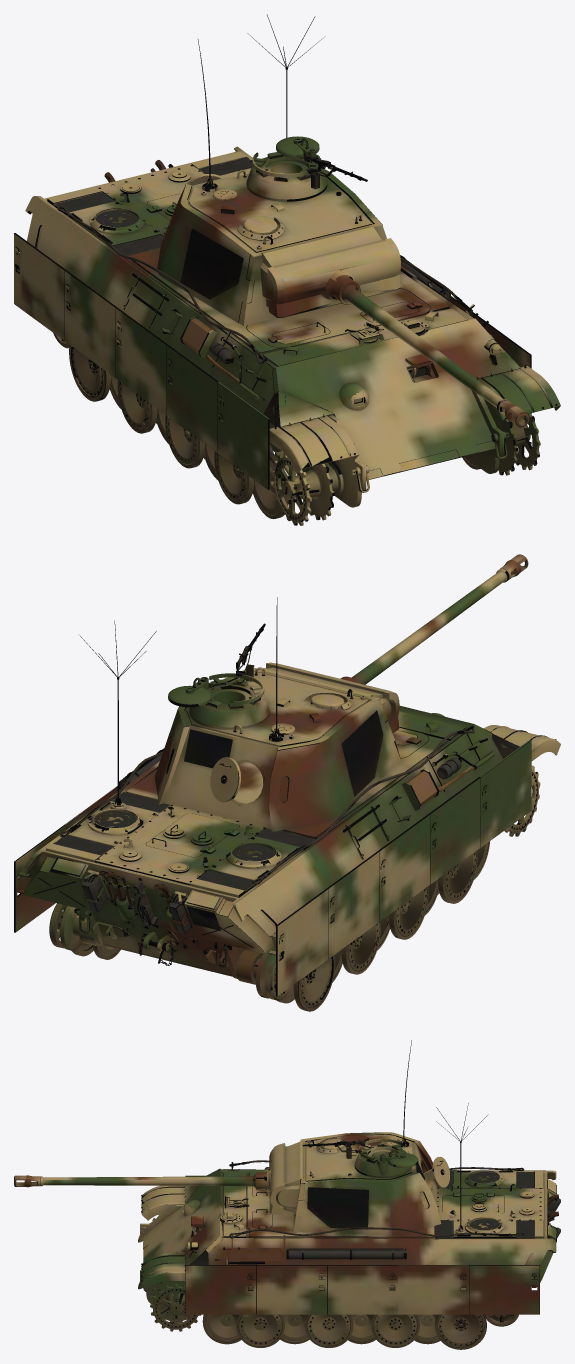
Rendered from Panther.glb.
The picture shows the model from 3 angles, top to bottom: view 1: azimuth 30°, elevation 25°; view 2: azimuth 150°, elevation 25°; view 3: azimuth 270°, elevation 25°; orthographic projection. The views are drawn at different scales.
Visible parts, largest first — view 1: Wanne, turret, cannon, radL9, radR9, radL8, radL1, radL7, radL5, radL3; view 2: Wanne, turret, cannon, radL0, radR0, radL1, radL7, radL5, radL3, radL9, radL4, radL2 (+1 smaller); view 3: Wanne, turret, cannon, radR9, radR1, radR7, radR8, radR3, radR5, radR6, radR4, radR2.
Boxes of the visible parts, x1,y1,x2,y2 form: Wanne: (14,14,560,507); turret: (157,39,403,325); cannon: (283,275,529,427); radL9: (272,453,340,525); radR9: (487,406,540,475); radL8: (240,447,296,519); radL1: (69,345,111,401); radL7: (218,444,283,504); radL5: (169,418,207,468); radL3: (122,384,158,433); Wanne: (14,620,560,996); turret: (154,597,399,832); cannon: (340,554,528,684); radL0: (236,947,292,1000); radR0: (49,903,97,950); radL1: (277,959,329,1011); radL7: (434,844,474,903); radL5: (383,881,426,939); radL3: (332,919,377,974); radL9: (483,765,540,836); radL4: (373,907,401,953); radL2: (327,942,353,991); Wanne: (138,1103,560,1314); turret: (264,1040,449,1235); cannon: (14,1171,271,1218); radR9: (150,1281,200,1331); radR1: (442,1314,486,1349); radR7: (242,1314,278,1347); radR8: (202,1314,245,1344); radR3: (377,1314,413,1347); radR5: (310,1314,347,1347); radR6: (275,1314,313,1344); radR4: (344,1314,380,1344); radR2: (410,1314,445,1344).
Size of the model in its own units: 3.4 by 4.48 by 8.66.
Materials: 1 (1 with a texture image).
